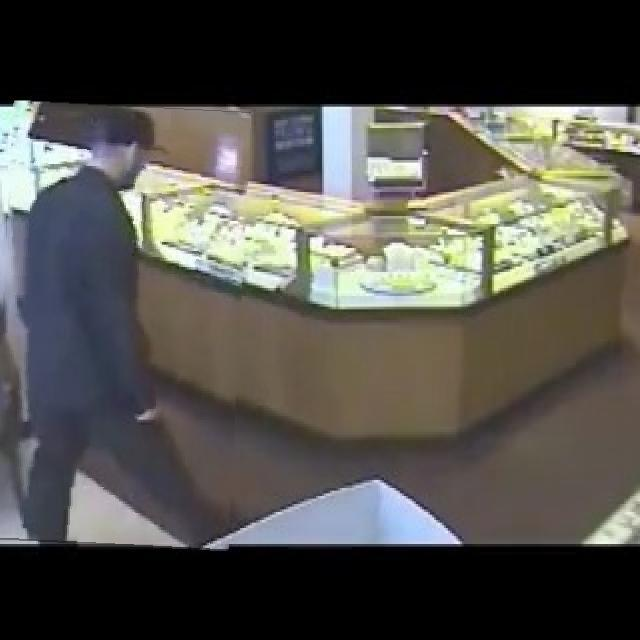normal: (0, 103, 246, 548)
